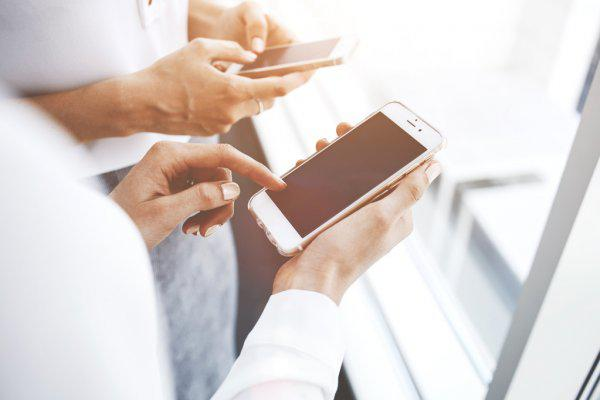mobile: (248, 100, 443, 255)
